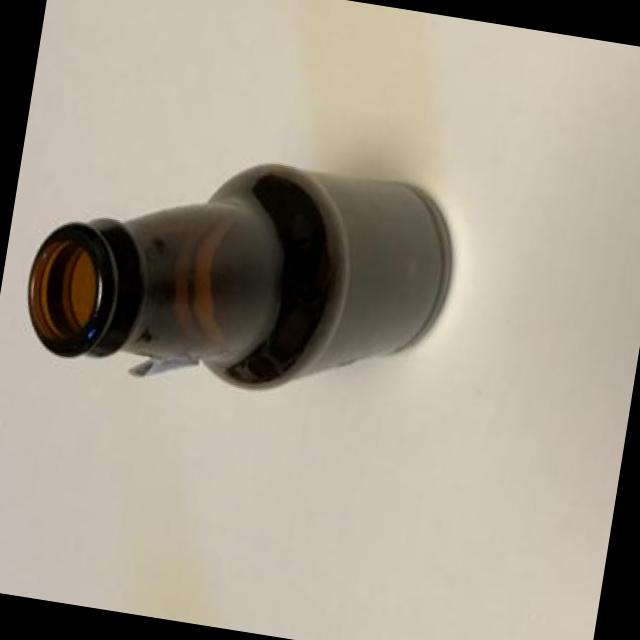chai_thuy_tinh: (28, 165, 453, 389)
